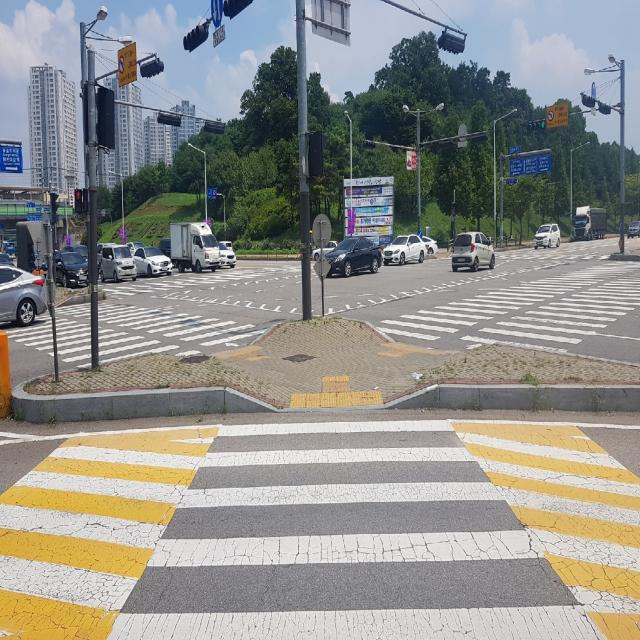빨간불: (74, 182, 82, 214)
횡단보도: (104, 416, 608, 639), (374, 250, 640, 356), (0, 288, 270, 372)
